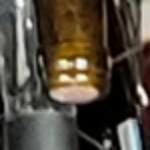bottle: (33, 45, 124, 125)
